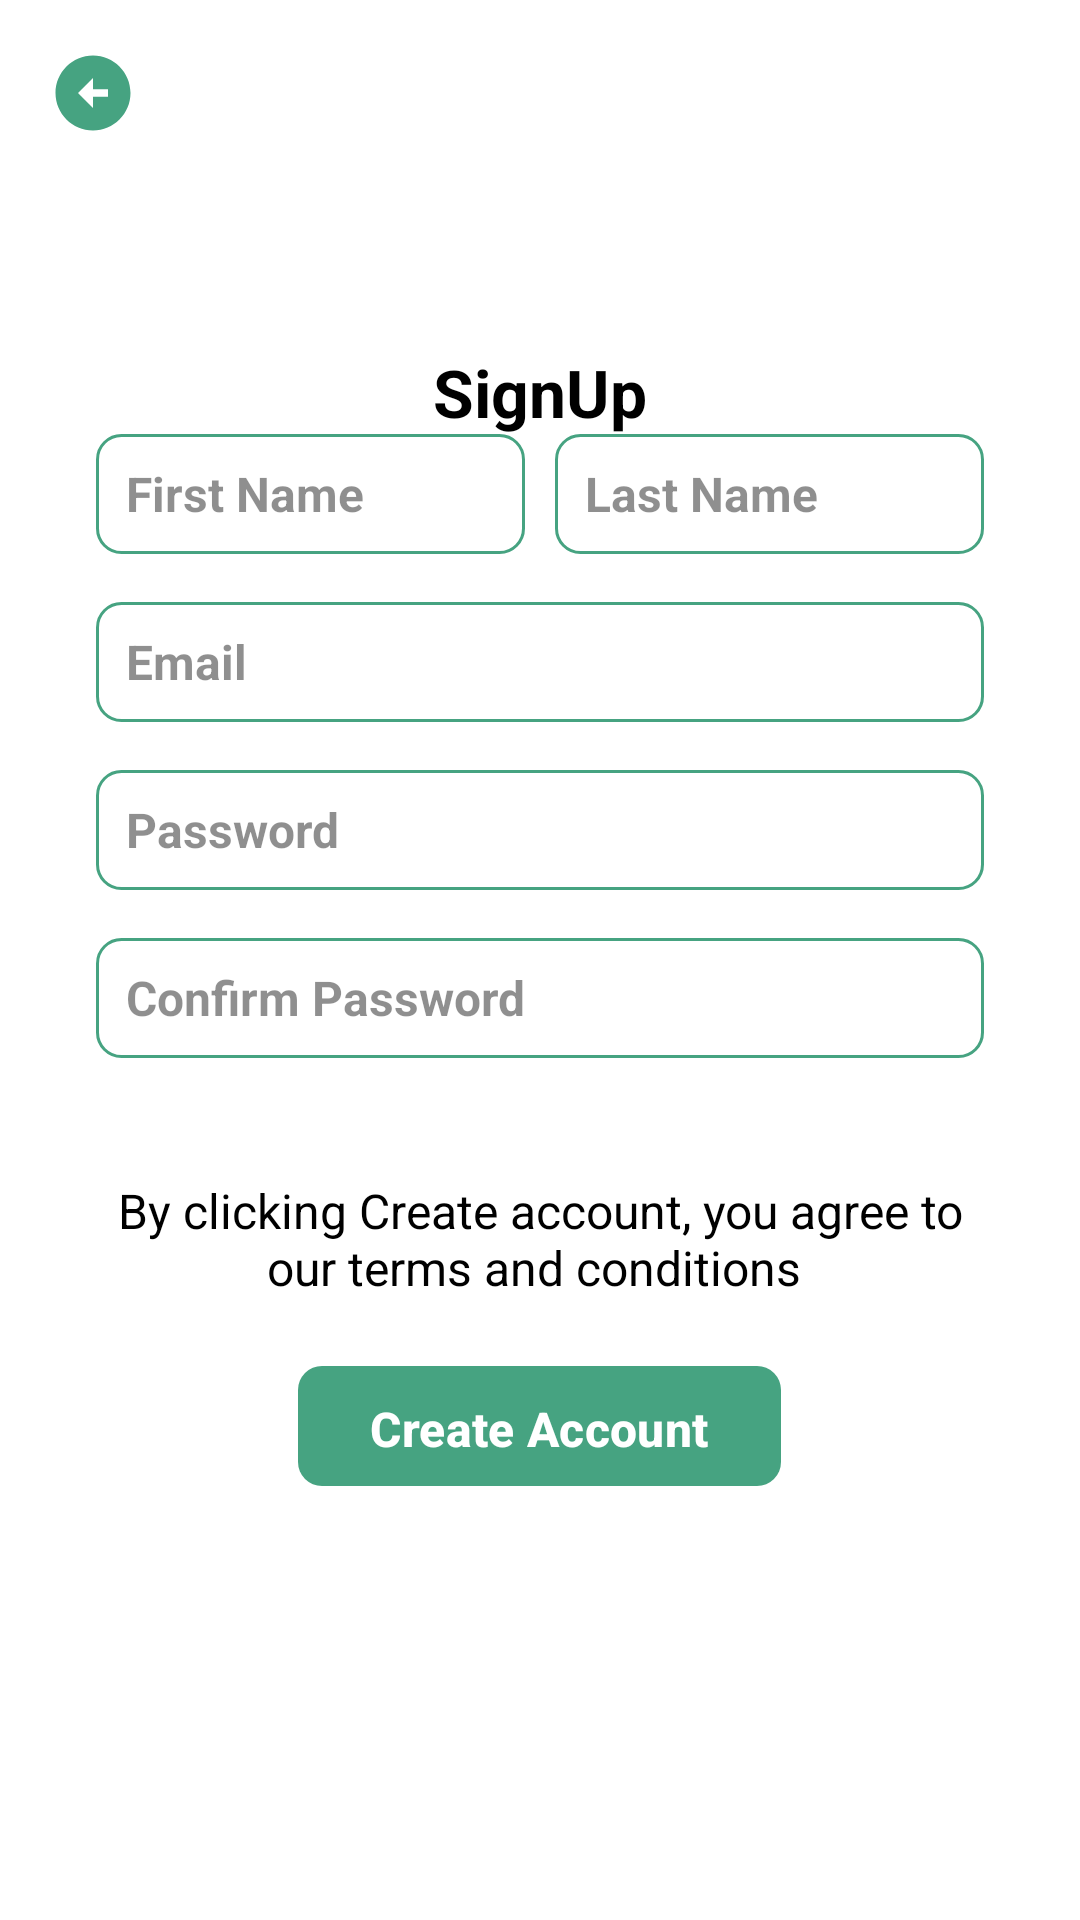

Named icons in this screenshot (1080 × 1920) and their centers, (x,y):
back: (93,93)
